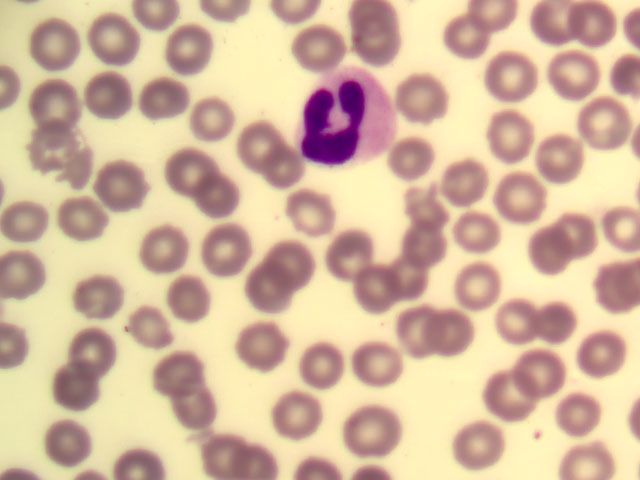RBC: (29, 19, 81, 74), (88, 12, 140, 67), (82, 68, 134, 123), (32, 73, 84, 128), (35, 124, 87, 179), (92, 154, 144, 209), (59, 188, 111, 243), (3, 191, 55, 246), (72, 268, 124, 323), (133, 222, 185, 277), (160, 271, 212, 326), (200, 221, 252, 276), (194, 172, 246, 227), (162, 142, 214, 197), (185, 92, 237, 147), (139, 74, 191, 129), (166, 22, 218, 77), (225, 114, 277, 169), (251, 148, 303, 203), (283, 187, 335, 242), (267, 239, 319, 294), (241, 260, 293, 315), (134, 305, 186, 360), (56, 320, 108, 375), (50, 360, 102, 415), (145, 343, 197, 398), (173, 384, 225, 439), (235, 321, 287, 376), (272, 398, 324, 453), (302, 334, 354, 389), (350, 340, 402, 395), (340, 393, 392, 448), (398, 305, 450, 360), (434, 298, 486, 353), (349, 264, 401, 319), (330, 226, 382, 281), (390, 249, 442, 304), (402, 216, 454, 271), (406, 184, 458, 239), (391, 135, 443, 190), (401, 69, 453, 124), (303, 18, 355, 73), (355, 15, 407, 70), (445, 13, 497, 68), (491, 48, 543, 103), (487, 108, 539, 163), (449, 150, 501, 205), (497, 168, 549, 223), (456, 204, 508, 259), (453, 263, 505, 318), (489, 295, 541, 350), (529, 298, 581, 353), (580, 319, 632, 374), (520, 349, 572, 404), (489, 368, 541, 423), (457, 412, 509, 467), (552, 390, 604, 445), (555, 425, 607, 480), (549, 207, 601, 262), (521, 224, 573, 279), (588, 202, 640, 257), (537, 131, 589, 186), (576, 100, 628, 155), (552, 45, 604, 100), (44, 413, 96, 468), (568, 1, 620, 55), (529, 1, 581, 55)
WBC: (295, 70, 395, 172)
